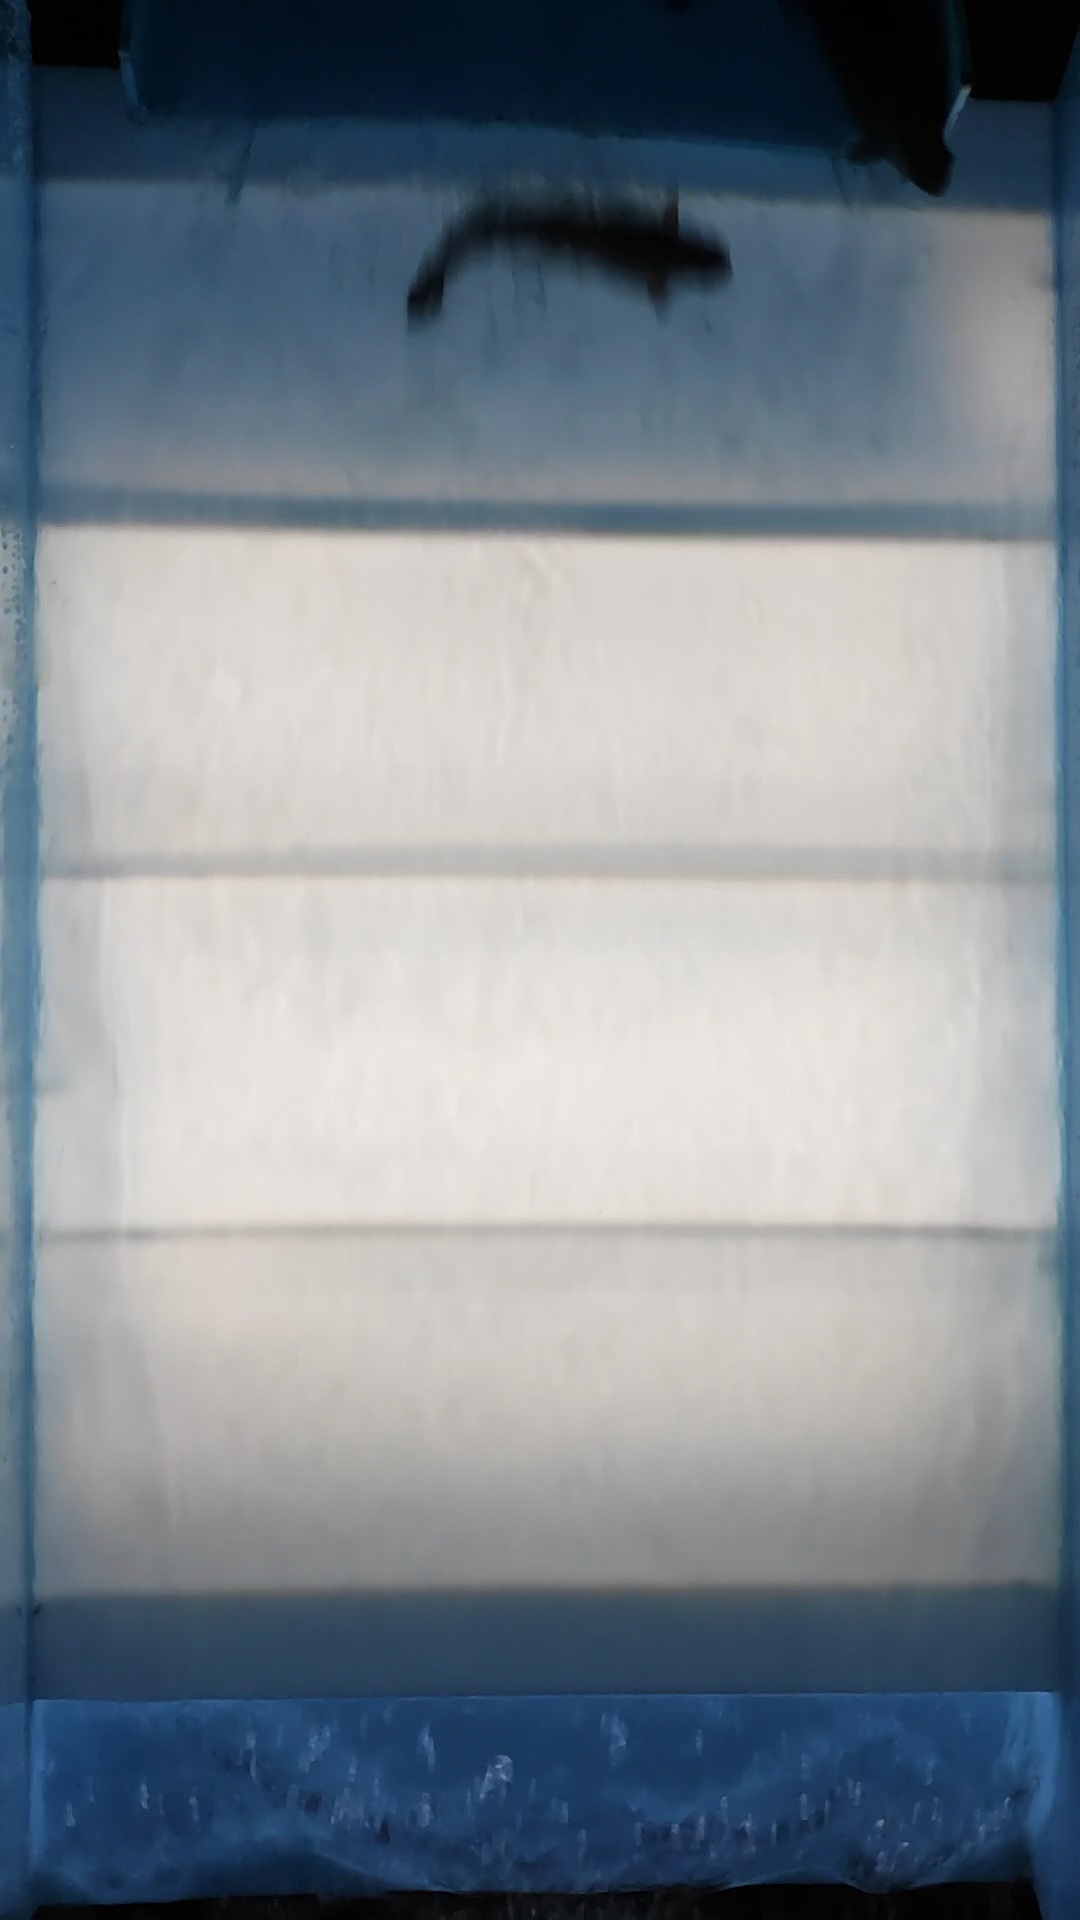fish: (398, 179, 745, 342)
